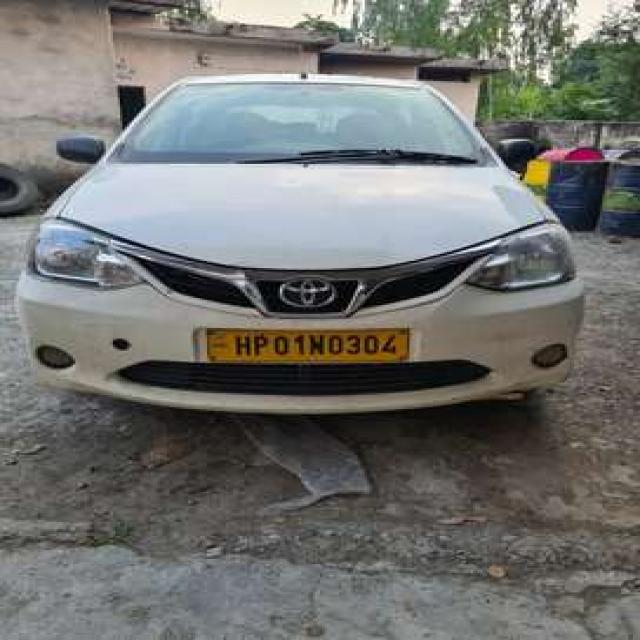Plate: (208, 329, 410, 361)
